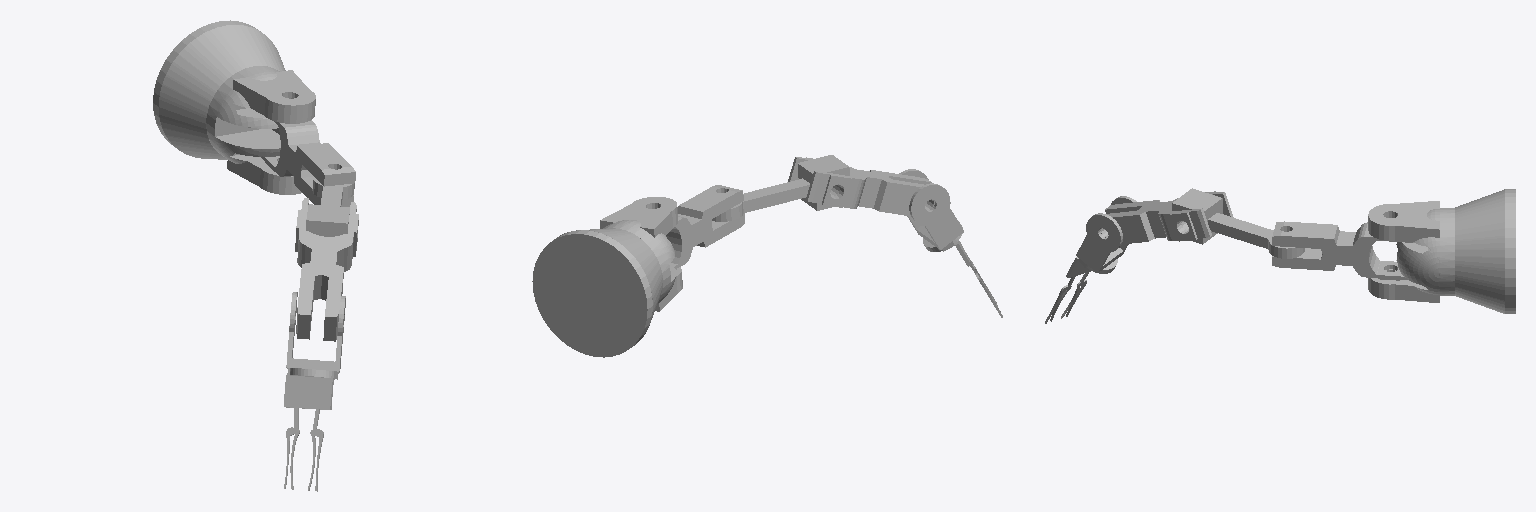
The robot description file, URDF, robot "URDF Braccio":
<?xml version="1.0" encoding="utf-8"?>
<!-- This URDF was automatically created by SolidWorks to URDF Exporter! Originally created by [author] ([email redacted]) 
     Commit Version: 1.6.0-1-g15f4949  Build Version: 1.6.7594.29634
     For more information, please see http://wiki.ros.org/sw_urdf_exporter -->
<robot
  name="URDF Braccio">
  <link
    name="base_link">
    <inertial>
      <origin
        xyz="-0.03652 -0.37323 -0.014347"
        rpy="0 0 0" />
      <mass
        value="13.783" />
      <inertia
        ixx="0.1324"
        ixy="-6.8404E-18"
        ixz="-1.0678E-33"
        iyy="0.18314"
        iyz="-3.1068E-18"
        izz="0.1324" />
    </inertial>
    <visual>
      <origin
        xyz="0 0 0"
        rpy="0 0 0" />
      <geometry>
        <mesh
          filename="package://URDF Braccio/meshes/base_link.STL" />
      </geometry>
      <material
        name="">
        <color
          rgba="0.74902 0.74902 0.74902 1" />
      </material>
    </visual>
    <collision>
      <origin
        xyz="0 0 0"
        rpy="0 0 0" />
      <geometry>
        <mesh
          filename="package://URDF Braccio/meshes/base_link.STL" />
      </geometry>
    </collision>
  </link>
  <link
    name="E1">
    <inertial>
      <origin
        xyz="-2.171E-05 -0.0052676 0.064163"
        rpy="0 0 0" />
      <mass
        value="8.2222" />
      <inertia
        ixx="0.064798"
        ixy="7.3708E-07"
        ixz="7.1521E-06"
        iyy="0.085982"
        iyz="0.00031541"
        izz="0.080171" />
    </inertial>
    <visual>
      <origin
        xyz="0 0 0"
        rpy="0 0 0" />
      <geometry>
        <mesh
          filename="package://URDF Braccio/meshes/E1.STL" />
      </geometry>
      <material
        name="">
        <color
          rgba="0.74902 0.74902 0.74902 1" />
      </material>
    </visual>
    <collision>
      <origin
        xyz="0 0 0"
        rpy="0 0 0" />
      <geometry>
        <mesh
          filename="package://URDF Braccio/meshes/E1.STL" />
      </geometry>
    </collision>
  </link>
  <joint
    name="J1"
    type="continuous">
    <origin
      xyz="-0.03652 -0.49884 -0.014347"
      rpy="1.5708 -1.4977 0" />
    <parent
      link="base_link" />
    <child
      link="E1" />
    <axis
      xyz="0 0 1" />
  </joint>
  <link
    name="E2">
    <inertial>
      <origin
        xyz="-8.5512E-08 0.0069932 0.1882"
        rpy="0 0 0" />
      <mass
        value="2.6131" />
      <inertia
        ixx="0.029764"
        ixy="5.982E-10"
        ixz="3.382E-08"
        iyy="0.032027"
        iyz="-0.0010856"
        izz="0.0060768" />
    </inertial>
    <visual>
      <origin
        xyz="0 0 0"
        rpy="0 0 0" />
      <geometry>
        <mesh
          filename="package://URDF Braccio/meshes/E2.STL" />
      </geometry>
      <material
        name="">
        <color
          rgba="0.74902 0.74902 0.74902 1" />
      </material>
    </visual>
    <collision>
      <origin
        xyz="0 0 0"
        rpy="0 0 0" />
      <geometry>
        <mesh
          filename="package://URDF Braccio/meshes/E2.STL" />
      </geometry>
    </collision>
  </link>
  <joint
    name="J2"
    type="continuous">
    <origin
      xyz="0.00105 -0.0017952 0.15134"
      rpy="-0.08667 0 0" />
    <parent
      link="E1" />
    <child
      link="E2" />
    <axis
      xyz="1 0 0" />
  </joint>
  <link
    name="E3">
    <inertial>
      <origin
        xyz="-0.01195 2.3592E-16 0.24325"
        rpy="0 0 0" />
      <mass
        value="1.9394" />
      <inertia
        ixx="0.034478"
        ixy="-3.8673E-19"
        ixz="-9.6819E-17"
        iyy="0.034608"
        iyz="-1.9434E-17"
        izz="0.0031081" />
    </inertial>
    <visual>
      <origin
        xyz="0 0 0"
        rpy="0 0 0" />
      <geometry>
        <mesh
          filename="package://URDF Braccio/meshes/E3.STL" />
      </geometry>
      <material
        name="">
        <color
          rgba="0.74902 0.74902 0.74902 1" />
      </material>
    </visual>
    <collision>
      <origin
        xyz="0 0 0"
        rpy="0 0 0" />
      <geometry>
        <mesh
          filename="package://URDF Braccio/meshes/E3.STL" />
      </geometry>
    </collision>
  </link>
  <joint
    name="J3"
    type="continuous">
    <origin
      xyz="6.5E-05 0 0.34209"
      rpy="0 -0.49203 -1.5708" />
    <parent
      link="E2" />
    <child
      link="E3" />
    <axis
      xyz="0 1 0" />
  </joint>
  <link
    name="E4">
    <inertial>
      <origin
        xyz="-0.01195 -0.0033472 0.1827"
        rpy="0 0 0" />
      <mass
        value="2.7928" />
      <inertia
        ixx="0.035308"
        ixy="-2.1705E-09"
        ixz="3.6325E-08"
        iyy="0.038151"
        iyz="0.001085"
        izz="0.0069241" />
    </inertial>
    <visual>
      <origin
        xyz="0 0 0"
        rpy="0 0 0" />
      <geometry>
        <mesh
          filename="package://URDF Braccio/meshes/E4.STL" />
      </geometry>
      <material
        name="">
        <color
          rgba="0.74902 0.74902 0.74902 1" />
      </material>
    </visual>
    <collision>
      <origin
        xyz="0 0 0"
        rpy="0 0 0" />
      <geometry>
        <mesh
          filename="package://URDF Braccio/meshes/E4.STL" />
      </geometry>
    </collision>
  </link>
  <joint
    name="J4"
    type="continuous">
    <origin
      xyz="0 0.0070657 0.30651"
      rpy="0.34787 0 0" />
    <parent
      link="E3" />
    <child
      link="E4" />
    <axis
      xyz="1 0 0" />
  </joint>
  <link
    name="E5">
    <inertial>
      <origin
        xyz="-0.082682 -0.020979 0.064861"
        rpy="0 0 0" />
      <mass
        value="0.71537" />
      <inertia
        ixx="0.0034266"
        ixy="2.2546E-06"
        ixz="-6.1444E-07"
        iyy="0.0030752"
        iyz="0.00055585"
        izz="0.0049412" />
    </inertial>
    <visual>
      <origin
        xyz="0 0 0"
        rpy="0 0 0" />
      <geometry>
        <mesh
          filename="package://URDF Braccio/meshes/E5.STL" />
      </geometry>
      <material
        name="">
        <color
          rgba="0.74902 0.74902 0.74902 1" />
      </material>
    </visual>
    <collision>
      <origin
        xyz="0 0 0"
        rpy="0 0 0" />
      <geometry>
        <mesh
          filename="package://URDF Braccio/meshes/E5.STL" />
      </geometry>
    </collision>
  </link>
  <joint
    name="J5"
    type="continuous">
    <origin
      xyz="0.068835 -0.071042 0.32965"
      rpy="-0.53199 0 0" />
    <parent
      link="E4" />
    <child
      link="E5" />
    <axis
      xyz="1 0 0" />
  </joint>
  <link
    name="E6">
    <inertial>
      <origin
        xyz="-0.058973 0.0443 -0.0046587"
        rpy="0 0 0" />
      <mass
        value="0.38758" />
      <inertia
        ixx="0.0007629"
        ixy="0.00012504"
        ixz="-9.1614E-06"
        iyy="0.00072999"
        iyz="-4.5962E-06"
        izz="0.00066271" />
    </inertial>
    <visual>
      <origin
        xyz="0 0 0"
        rpy="0 0 0" />
      <geometry>
        <mesh
          filename="package://URDF Braccio/meshes/E6.STL" />
      </geometry>
      <material
        name="">
        <color
          rgba="0.74902 0.74902 0.74902 1" />
      </material>
    </visual>
    <collision>
      <origin
        xyz="0 0 0"
        rpy="0 0 0" />
      <geometry>
        <mesh
          filename="package://URDF Braccio/meshes/E6.STL" />
      </geometry>
    </collision>
  </link>
  <joint
    name="J6"
    type="continuous">
    <origin
      xyz="-0.07444 -0.085084 0.046369"
      rpy="-3.1415 1.3048 0.00012546" />
    <parent
      link="E5" />
    <child
      link="E6" />
    <axis
      xyz="0.25143 -0.96545 0.068491" />
  </joint>
</robot>

--- Render facts (derived) ---
The picture shows the robot from 3 angles, left to right: view 1: azimuth 30°, elevation 25°; view 2: azimuth 150°, elevation 25°; view 3: azimuth 270°, elevation 25°; orthographic projection.
Robot: URDF Braccio — 7 links, 6 joints (6 continuous); root link base_link; default pose: every joint at zero.
Visible links, largest first — view 1: base_link, E1, E4, E2, E6, E3, E5; view 2: base_link, E4, E1, E2, E3, E5, E6; view 3: E1, base_link, E2, E4, E3, E5, E6.
Link boxes in pixels (bbox=[...]): base_link: bbox=[153, 20, 285, 159]; E1: bbox=[206, 66, 315, 194]; E4: bbox=[295, 198, 358, 341]; E2: bbox=[261, 120, 355, 206]; E6: bbox=[284, 368, 338, 491]; E3: bbox=[306, 177, 354, 236]; E5: bbox=[286, 292, 345, 372]; base_link: bbox=[532, 228, 662, 357]; E4: bbox=[788, 157, 934, 215]; E1: bbox=[600, 197, 682, 311]; E2: bbox=[666, 185, 744, 269]; E3: bbox=[712, 155, 849, 221]; E5: bbox=[899, 169, 963, 249]; E6: bbox=[923, 221, 1002, 317]; E1: bbox=[1368, 201, 1454, 302]; base_link: bbox=[1455, 189, 1515, 313]; E2: bbox=[1272, 221, 1412, 280]; E4: bbox=[1101, 191, 1233, 243]; E3: bbox=[1172, 188, 1304, 258]; E5: bbox=[1076, 196, 1136, 272]; E6: bbox=[1045, 257, 1117, 323].
Bounding box of the posed robot: 0.7742 × 1.44 × 0.6807 m (x, y, z).
Meshes: 7 distinct files referenced, 7 mesh visuals loaded (7 binary STL).